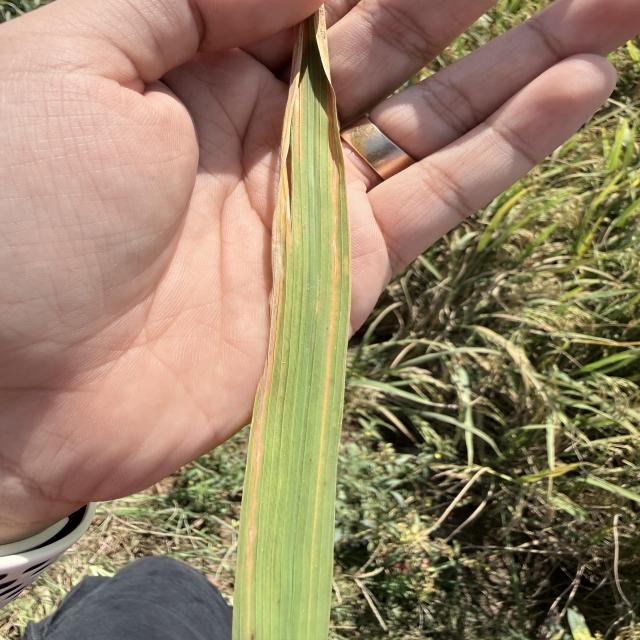Chay bia la: (246, 23, 303, 640), (311, 4, 342, 229)
